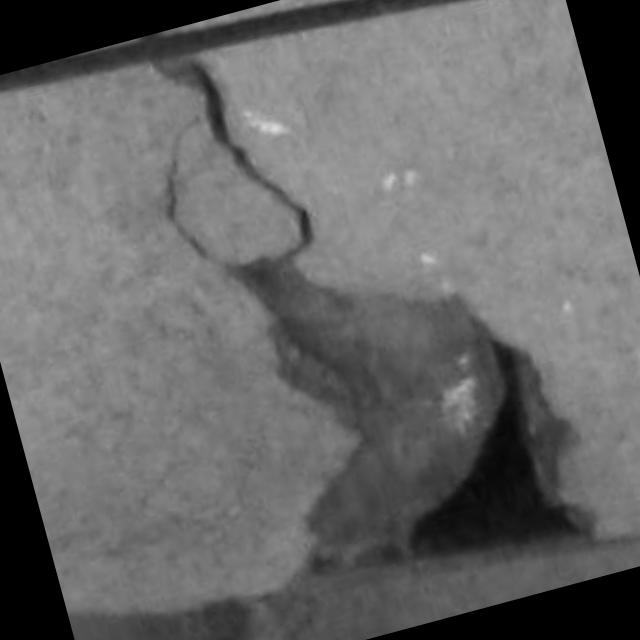crack: (155, 59, 587, 565), (151, 58, 312, 258)
